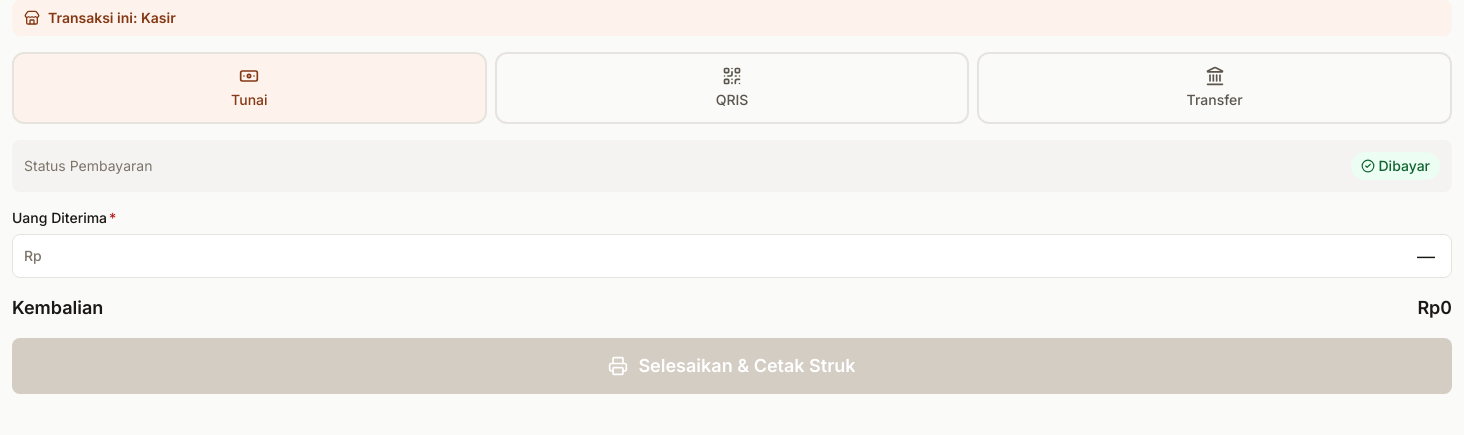
Scenario: PaymentPanel — payment status rendering › shows QRIS as verified, never as fully paid
This screenshot has width=1464, height=435.
Click the button "QRIS" at (732, 88), box x1=495 y1=52 x2=969 y2=124
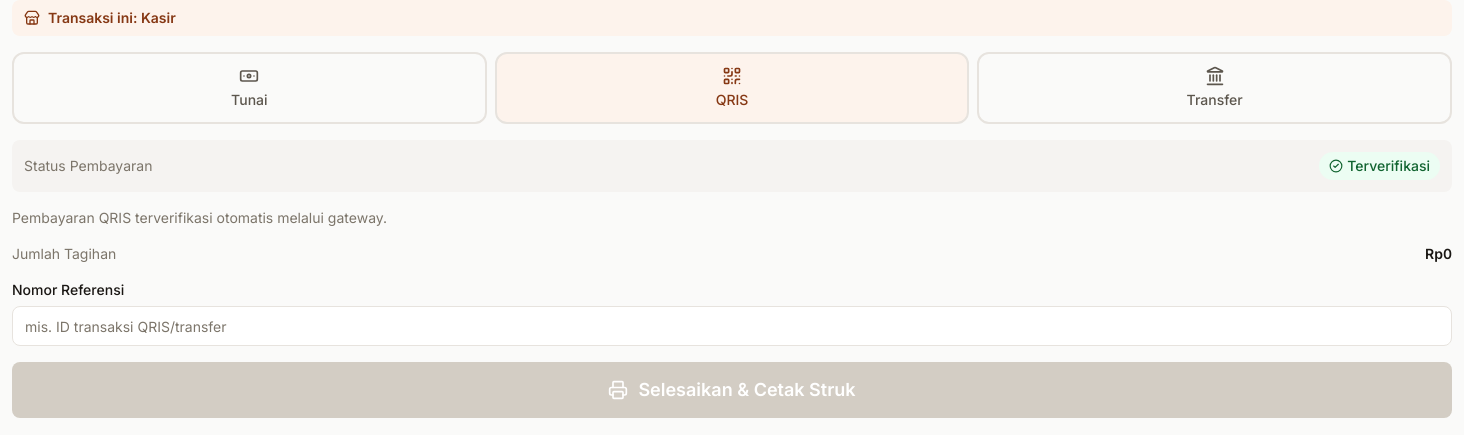
Result: the text "Terverifikasi" is shown at x1=1319 y1=152 x2=1440 y2=180
Result: the text "Dibayar" is gone
